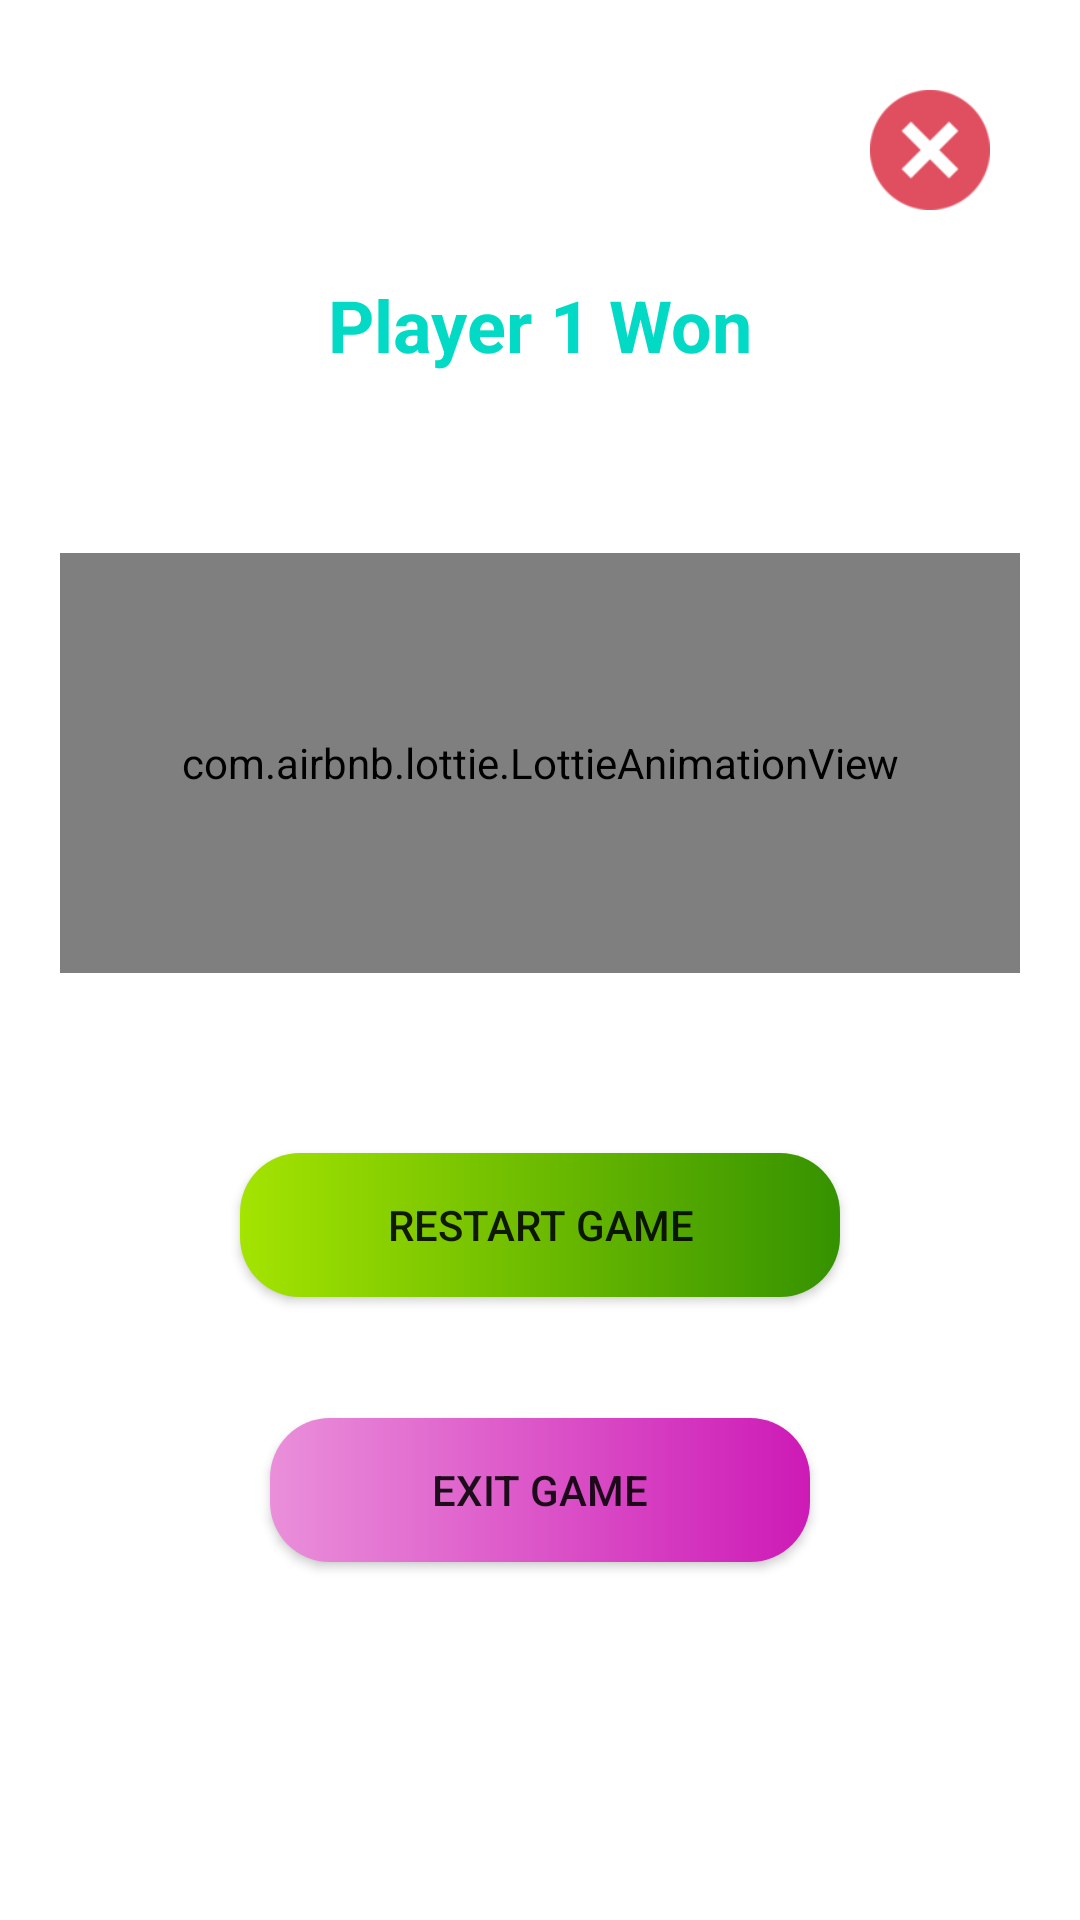

Named icons in this screenshot (1080px×1920px) and their centers, [x,y]:
Dismiss: [930,150]
